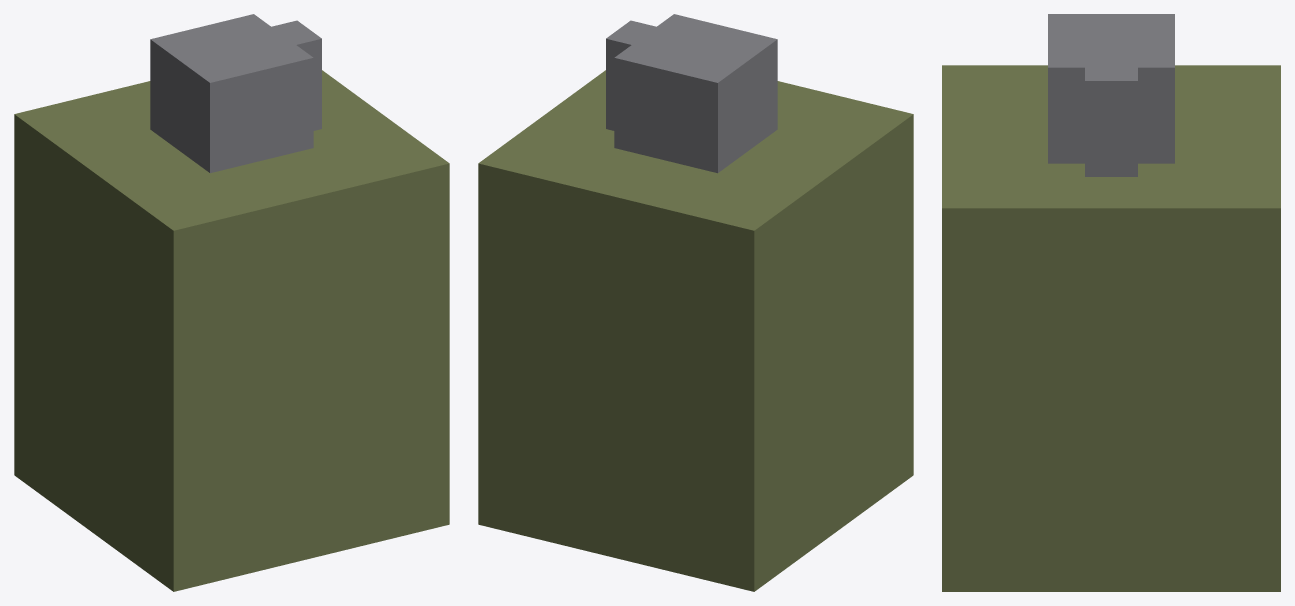
The model's file is Grenade.glb.
3 renders of one model, left to right at view 1: azimuth 30°, elevation 25°; view 2: azimuth 150°, elevation 25°; view 3: azimuth 270°, elevation 25°, orthographic. The views are drawn at different scales.
Visible parts, largest first — view 1: Grenade; view 2: Grenade; view 3: Grenade.
Boxes of the visible parts, x1=… form: Grenade: x1=14, y1=14, x2=449, y2=591; Grenade: x1=478, y1=14, x2=913, y2=591; Grenade: x1=942, y1=14, x2=1280, y2=591.
Size of the model in its own units: 0.064 by 0.1 by 0.064.
